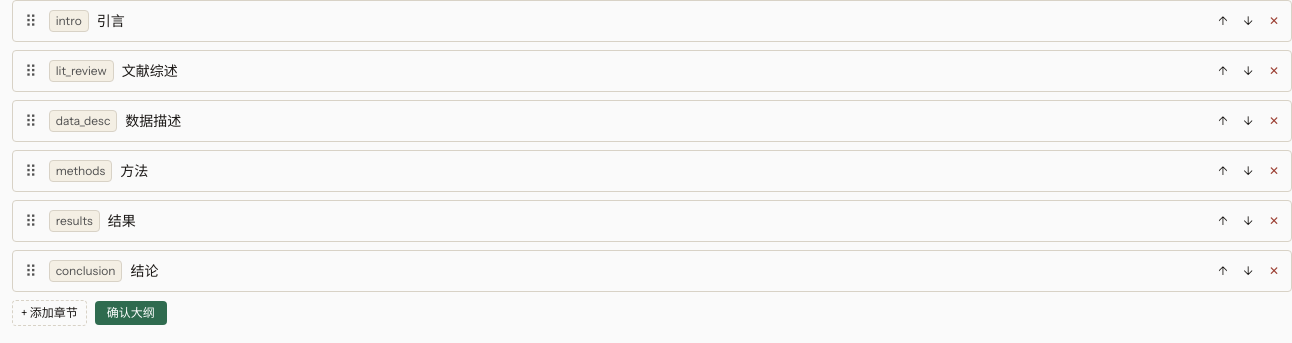
Test case: Outline 左栏大纲 › delete chapter removes it
The width and height of the screenshot is (1292, 343).
Expected: the number of list items with test id "chapter-item" is 6, [12, 0, 1291, 42]; [12, 50, 1291, 92]; [12, 100, 1291, 142]; [12, 150, 1291, 192]; [12, 200, 1291, 242]; [12, 250, 1291, 292]
Click the button named "删除 引言".
click(1274, 21)  # box [1265, 13, 1283, 29]
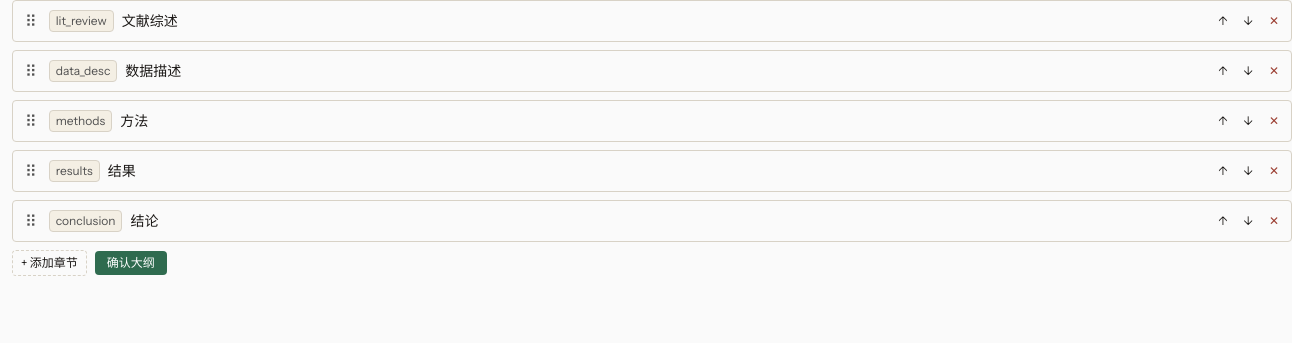
Now the number of list items with test id "chapter-item" is 5, box [12, 0, 1291, 42]; [12, 50, 1291, 92]; [12, 100, 1291, 142]; [12, 150, 1291, 192]; [12, 200, 1291, 242]
Now the text "引言" is gone
